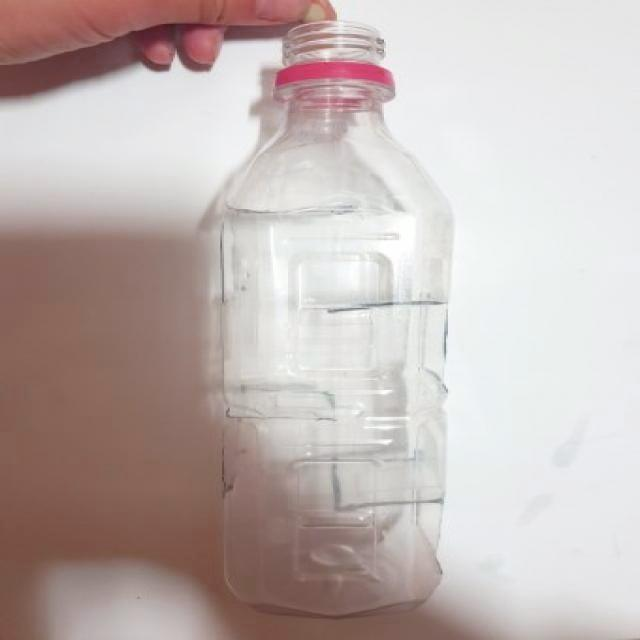bottle: (219, 22, 454, 618)
